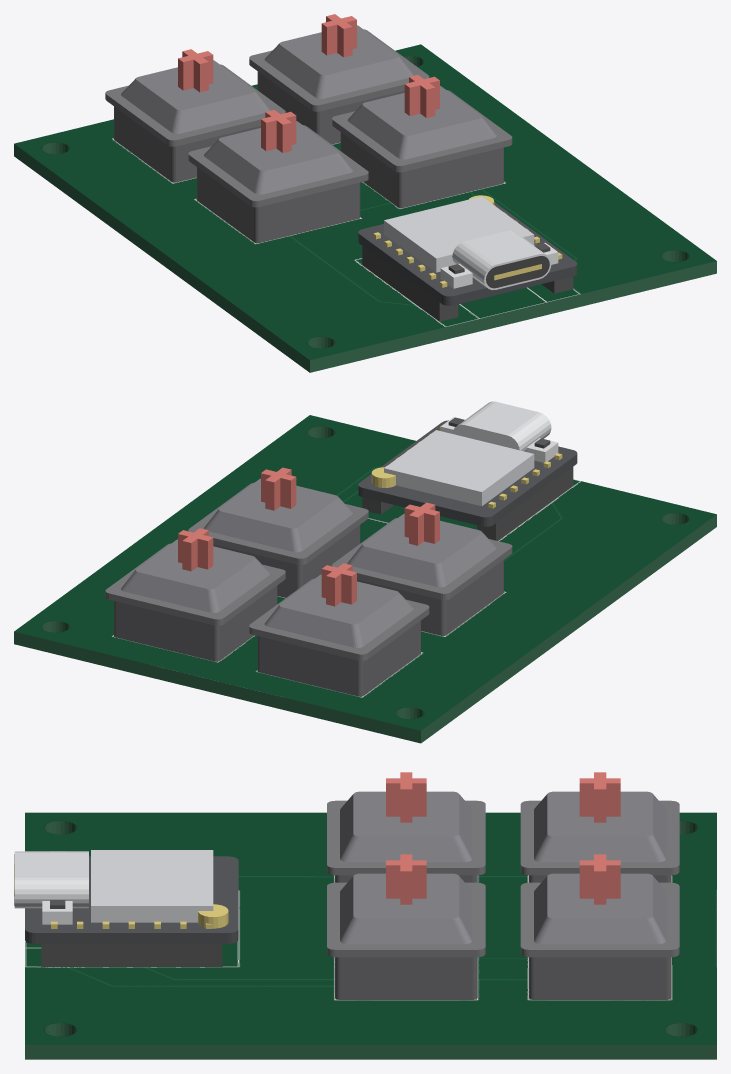
Rendered from board.glb.
3 views of the same model, one above another, from view 1: azimuth 30°, elevation 25°; view 2: azimuth 150°, elevation 25°; view 3: azimuth 270°, elevation 25° (orthographic). The views are drawn at different scales.
Visible parts, largest first — view 1: Box0, U1, SW2, SW1, SW4, SW3; view 2: Box0, U1, SW4, SW3, SW2, SW1; view 3: Box0, U1, SW3, SW1, SW4, SW2.
Boxes of the visible parts, x1=… form: Box0: x1=14, y1=44, x2=716, y2=372; U1: x1=358, y1=195, x2=577, y2=321; SW2: x1=188, y1=110, x2=368, y2=243; SW1: x1=332, y1=75, x2=512, y2=208; SW4: x1=105, y1=49, x2=285, y2=182; SW3: x1=249, y1=14, x2=429, y2=144; Box0: x1=14, y1=415, x2=716, y2=743; U1: x1=358, y1=401, x2=577, y2=540; SW4: x1=249, y1=563, x2=429, y2=696; SW3: x1=105, y1=528, x2=285, y2=661; SW2: x1=332, y1=502, x2=512, y2=635; SW1: x1=188, y1=467, x2=368, y2=597; Box0: x1=25, y1=812, x2=716, y2=1059; U1: x1=14, y1=850, x2=238, y2=966; SW3: x1=520, y1=854, x2=679, y2=999; SW1: x1=327, y1=854, x2=485, y2=999; SW4: x1=520, y1=772, x2=679, y2=882; SW2: x1=327, y1=772, x2=485, y2=882.
Size of the model in its own units: 54 by 13.2 by 69.08.
14 materials, 2 textured.
